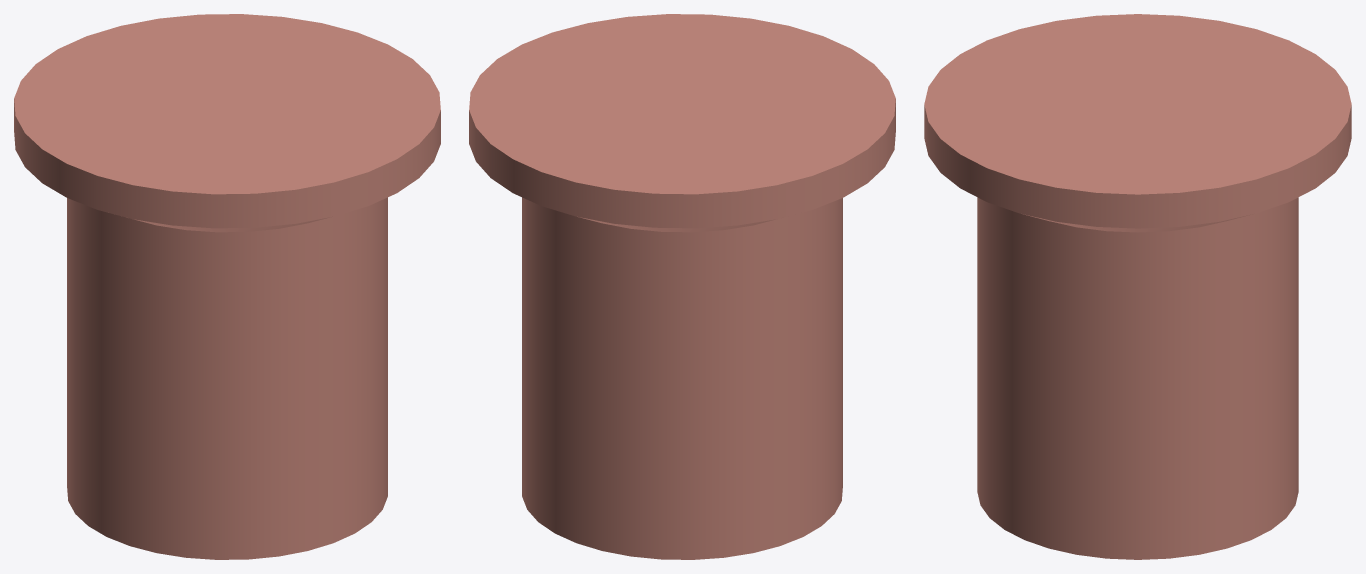
The model's file is ColumnTop01.fbx.
3 views of the same model, side by side, from view 1: azimuth 30°, elevation 25°; view 2: azimuth 150°, elevation 25°; view 3: azimuth 270°, elevation 25° (orthographic).
Parts seen in each view (by area): view 1: ColumnTop01.002; view 2: ColumnTop01.002; view 3: ColumnTop01.002.
Part boxes in pixels (x1,y1,x2,y2): ColumnTop01.002: [14, 14, 440, 559]; ColumnTop01.002: [469, 14, 895, 559]; ColumnTop01.002: [924, 14, 1351, 559].
Size of the model in its own units: 200 by 200 by 200.
